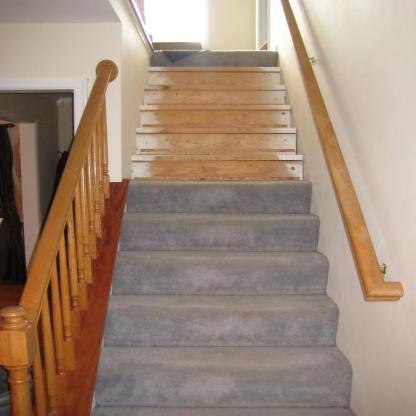stair: (104, 36, 351, 416)
